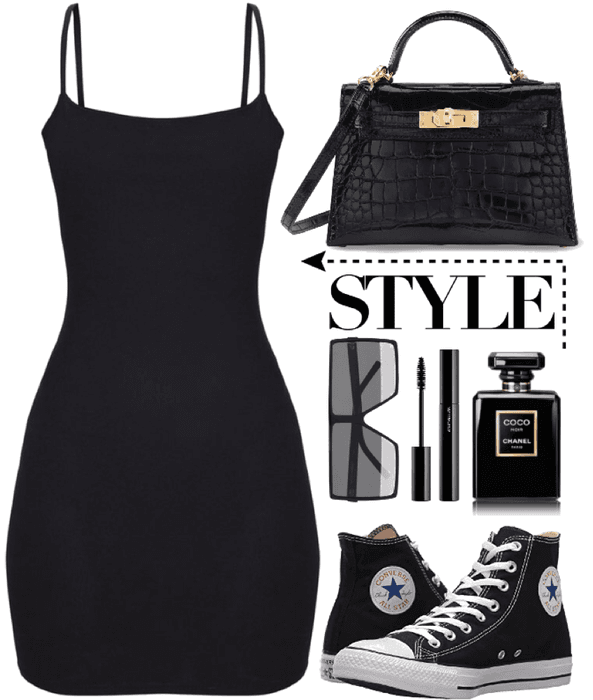аксесуары: (318, 329, 406, 508)
кроссовки: (315, 520, 574, 699)
платье: (4, 3, 320, 700)
сумка: (279, 7, 590, 253)
